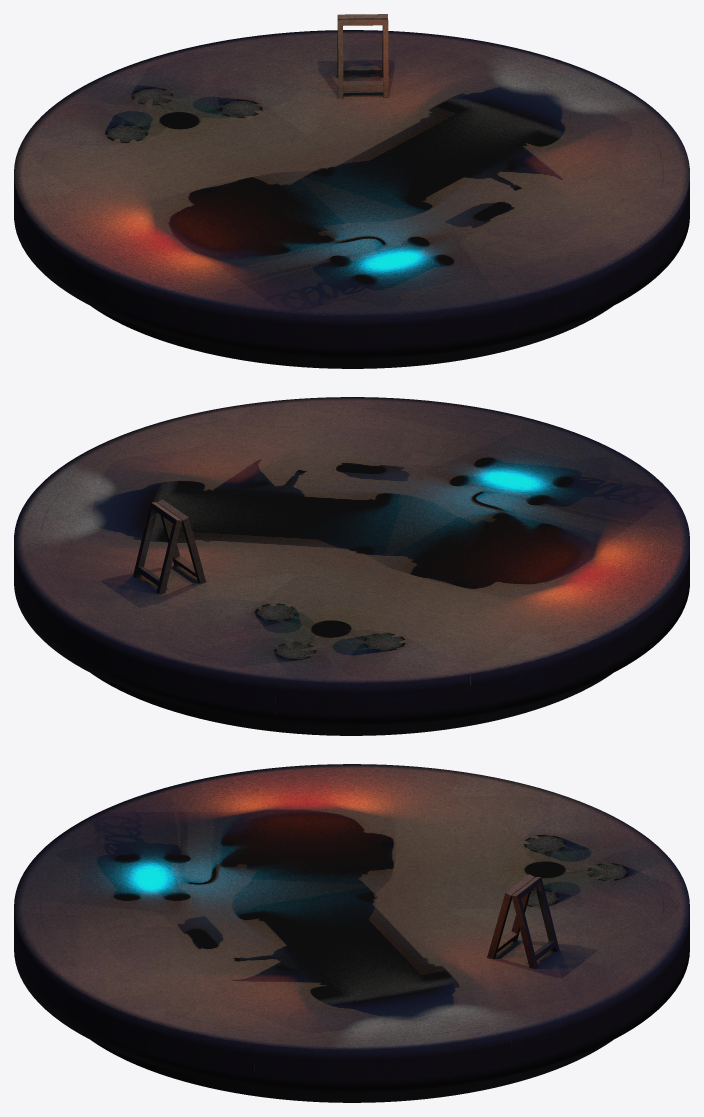
File: ground4.glb
The picture shows the model from 3 angles, top to bottom: view 1: azimuth 30°, elevation 25°; view 2: azimuth 150°, elevation 25°; view 3: azimuth 270°, elevation 25°; orthographic projection.
Visible parts, largest first — view 1: Ground; view 2: Ground; view 3: Ground.
Part boxes in pixels (x1,y1,x2,y2): Ground: (14, 14, 689, 368); Ground: (14, 397, 689, 735); Ground: (14, 764, 689, 1102).
Bounding box in the file's own units: 7.04 × 1.57 × 7.04.
1 material, 1 textured.
